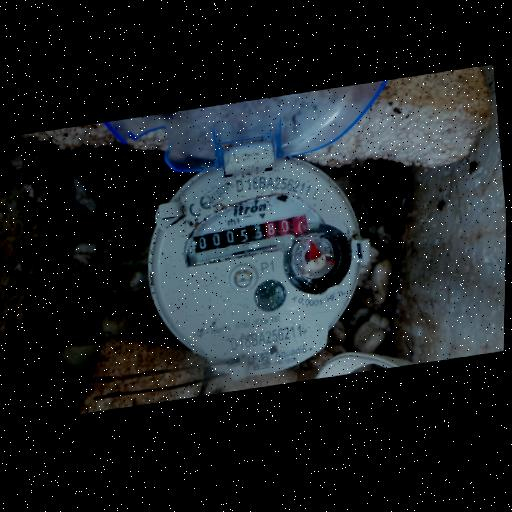0: (208, 231, 225, 250), (222, 228, 239, 247), (196, 234, 210, 253), (278, 218, 292, 237)
3: (249, 222, 267, 241)
5: (236, 225, 253, 244)
6: (291, 213, 309, 235)
8: (263, 220, 279, 239)
border_water_meter_number: (193, 212, 310, 257)
